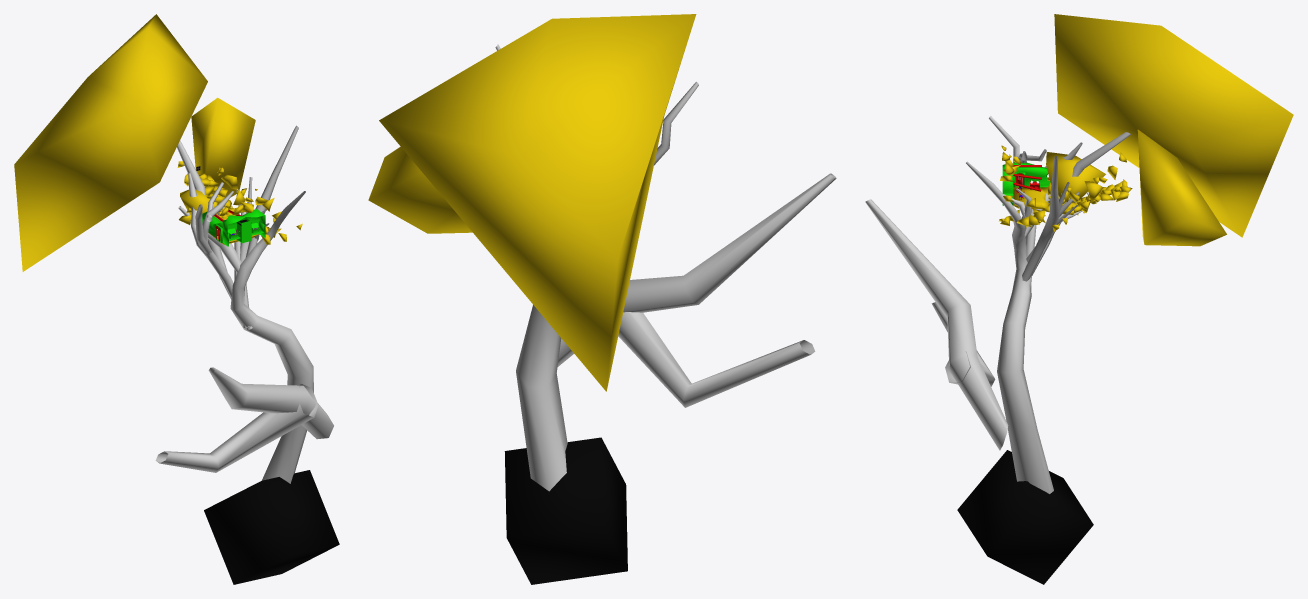
The picture shows the model from 3 angles, left to right: view 1: azimuth 30°, elevation 25°; view 2: azimuth 150°, elevation 25°; view 3: azimuth 270°, elevation 25°; orthographic projection. The views are drawn at different scales.
Parts seen in each view (by area): view 1: fragment.074, treeOfYore, fragment.039, fragment.073, fragment.068; view 2: fragment.074, treeOfYore, fragment.039, fragment.073; view 3: fragment.074, treeOfYore, fragment.039, fragment.073, fragment.068.
Boxes of the visible parts, box(x1,y1,x2,y2) form: fragment.074: box(14, 14, 207, 271); treeOfYore: box(155, 125, 333, 483); fragment.039: box(204, 470, 339, 584); fragment.073: box(191, 97, 255, 202); fragment.068: box(180, 189, 217, 214); fragment.074: box(379, 14, 696, 391); treeOfYore: box(495, 44, 836, 491); fragment.039: box(504, 437, 627, 584); fragment.073: box(368, 146, 472, 233); fragment.074: box(1054, 14, 1293, 237); treeOfYore: box(865, 116, 1130, 493); fragment.039: box(957, 450, 1093, 584); fragment.073: box(1137, 129, 1226, 246); fragment.068: box(1046, 152, 1105, 201).
Bounding box in the file's own units: 4452 × 9937 × 7389.
